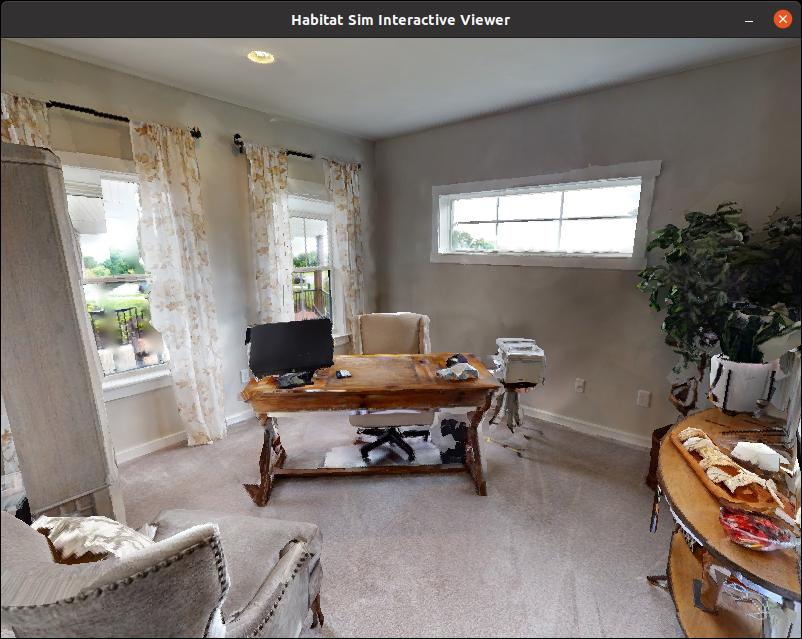chair: (347, 293, 441, 478)
sofa: (0, 477, 345, 639)
table: (225, 335, 513, 503), (635, 393, 802, 639)
